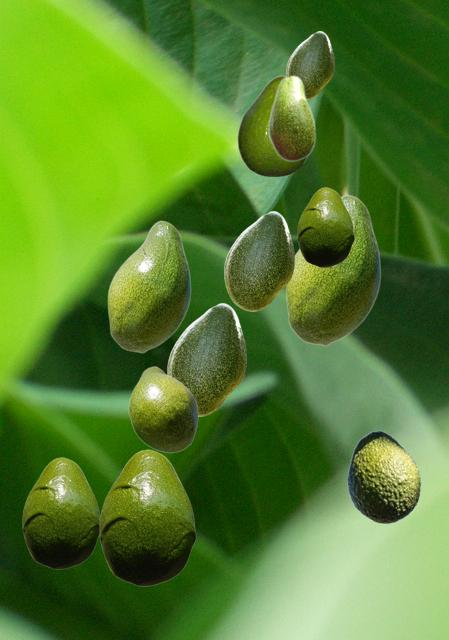avocado: (285, 194, 380, 345), (99, 449, 195, 585), (107, 220, 190, 352), (167, 303, 245, 415), (22, 457, 99, 568), (237, 75, 311, 175), (346, 430, 420, 523), (224, 211, 293, 310), (128, 366, 197, 452), (297, 187, 353, 266), (268, 74, 315, 161), (286, 31, 333, 98)
